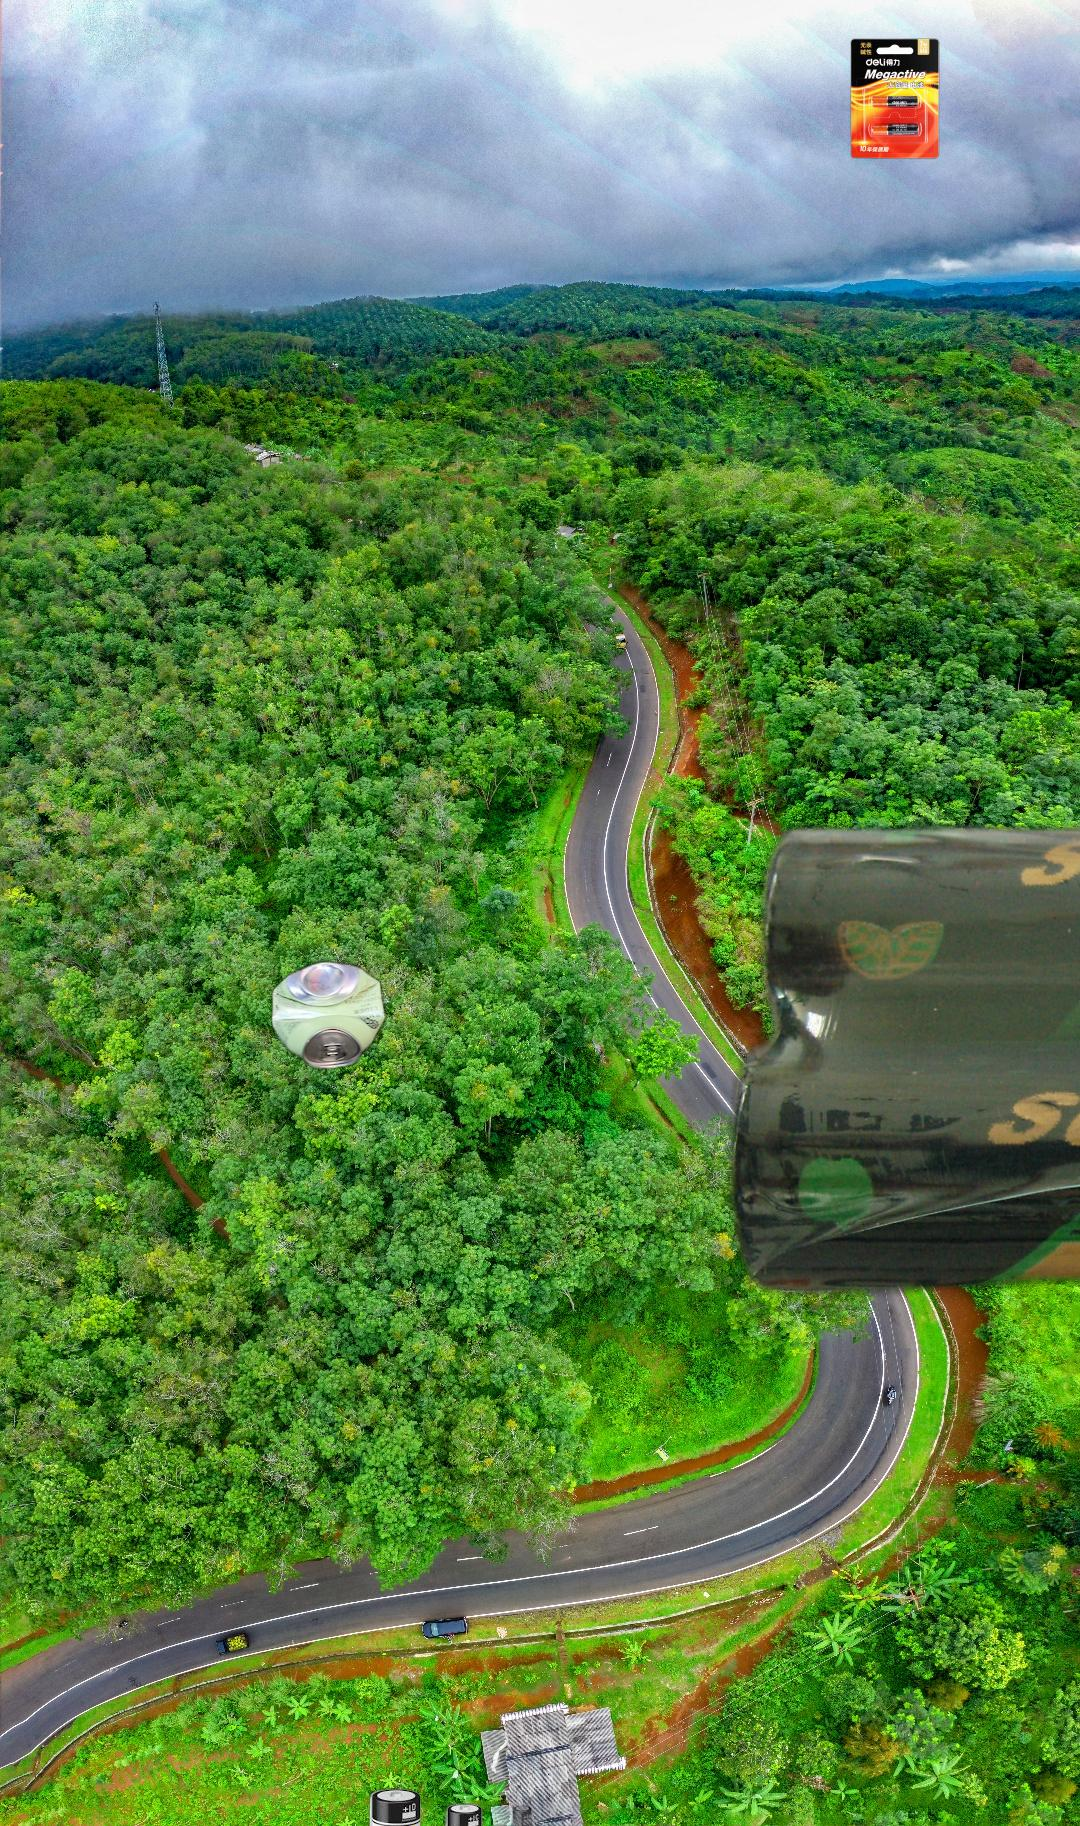battery: (715, 811, 1080, 1307), (848, 36, 942, 162), (346, 1786, 545, 1826)
metal-cans: (268, 955, 681, 1077)
